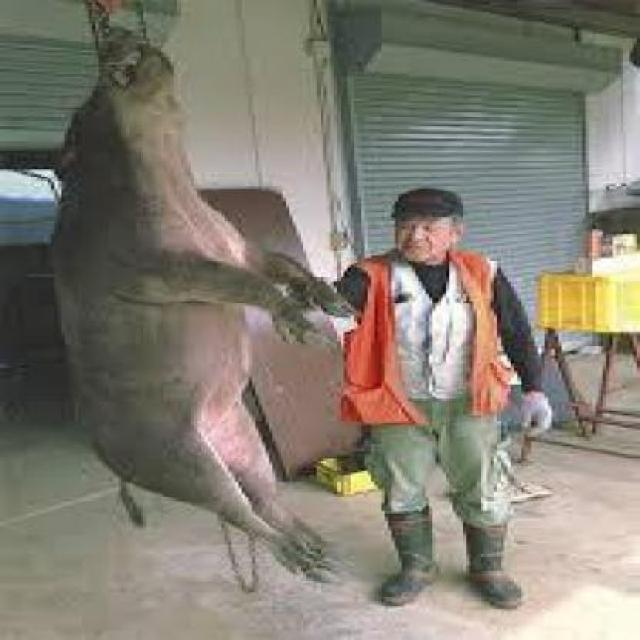wildboar: (28, 20, 364, 595)
